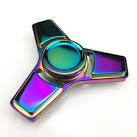fidget_spinner: (9, 5, 135, 119)
